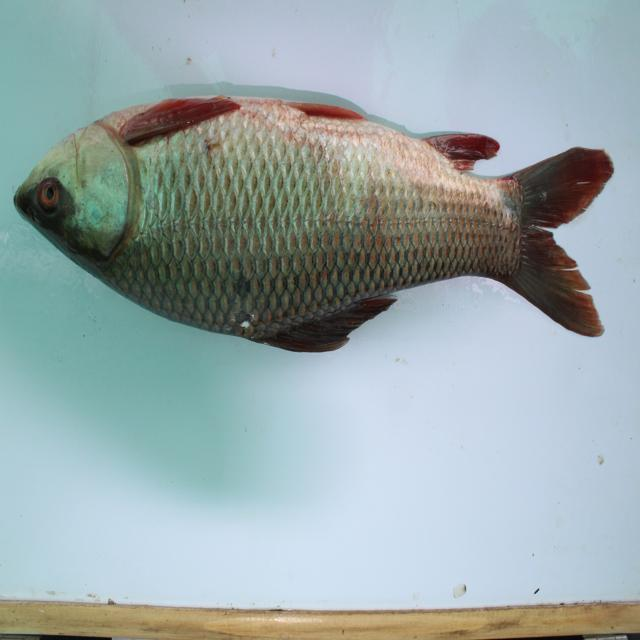Grass Carp: (21, 92, 615, 353)
